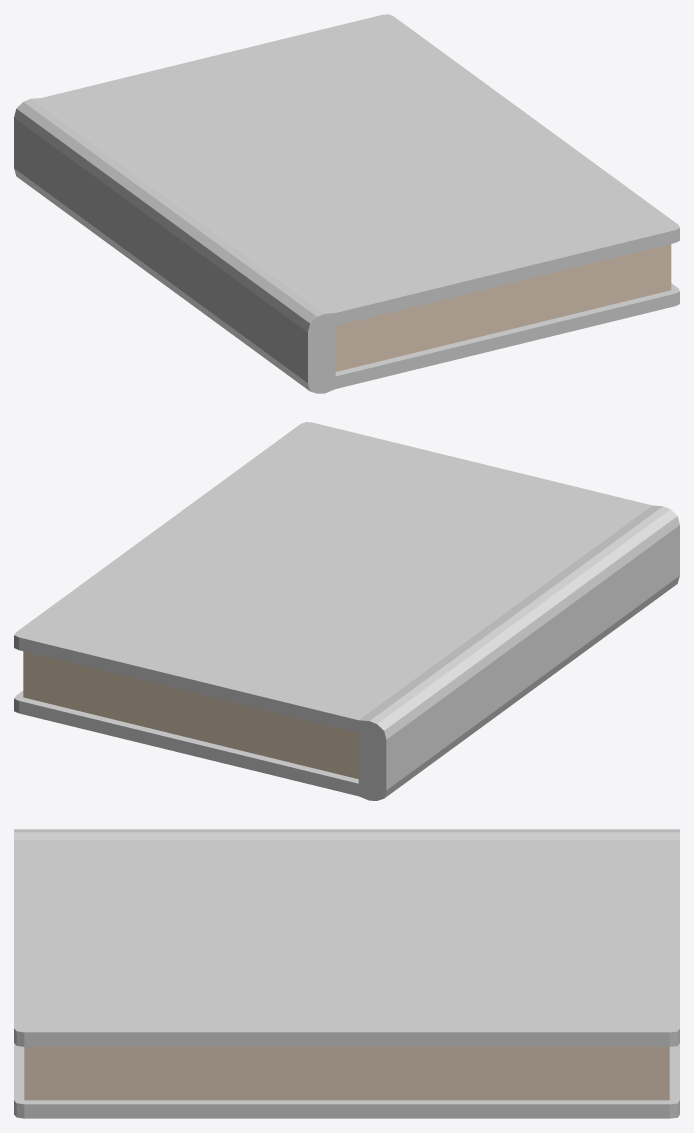
Rendered from Boek.fbx.
The picture shows the model from 3 angles, top to bottom: view 1: azimuth 30°, elevation 25°; view 2: azimuth 150°, elevation 25°; view 3: azimuth 270°, elevation 25°; orthographic projection. The views are drawn at different scales.
Visible parts, largest first — view 1: Plane; view 2: Plane; view 3: Plane.
Boxes of the visible parts, x1,y1,x2,y2 form: Plane: (14, 14, 679, 393); Plane: (14, 422, 679, 800); Plane: (14, 829, 679, 1118).
Size of the model in its own units: 15.18 by 3.08 by 20.59.
